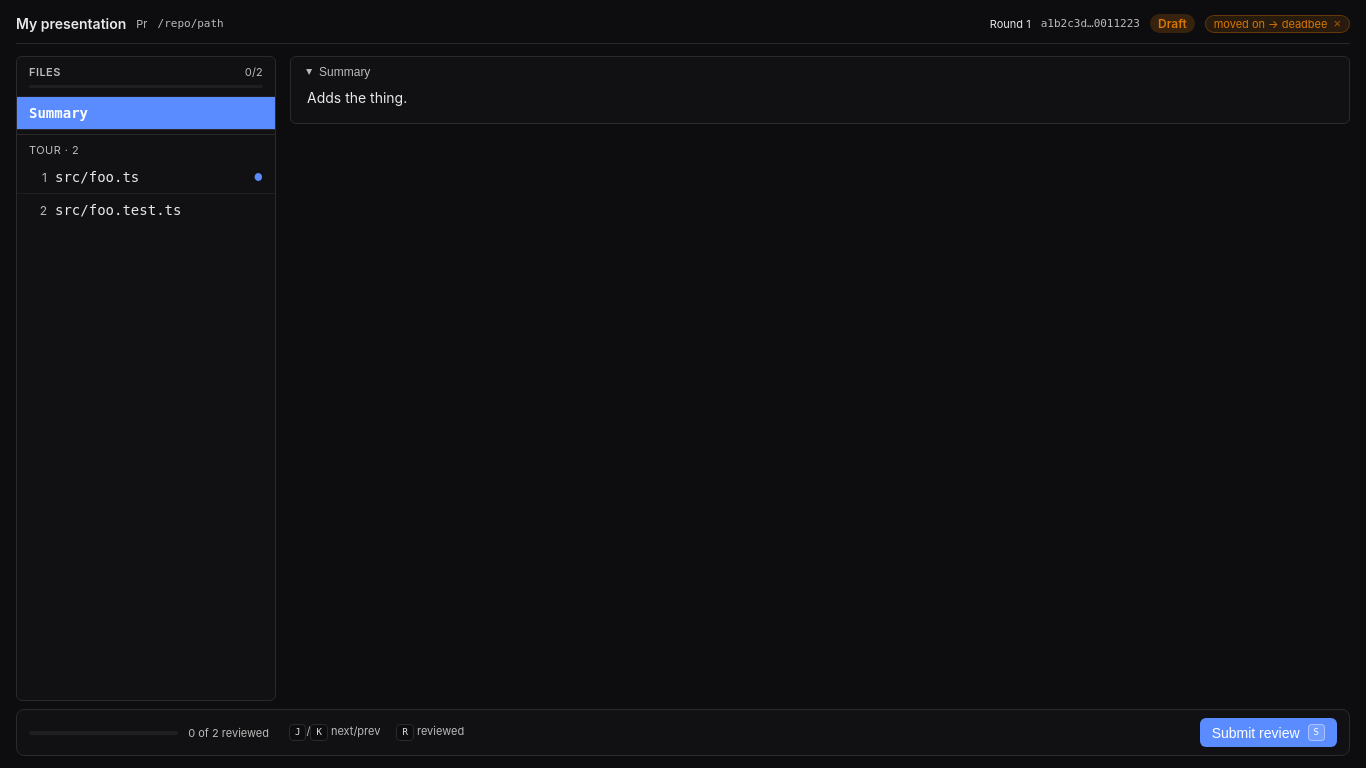
Test case: PresentRoot › shows a drift pill (with the long explanation in its title) iff repoHeadSha differs from the pinned round head, and it dismisses
Expected: the heading "My presentation" is shown, x1=16 y1=15 x2=126 y2=32
Expected: the message shows "deadbee", x1=1282 y1=16 x2=1327 y2=30
Click the button named "Dismiss" at (1337, 24), box x1=1333 y1=17 x2=1341 y2=30
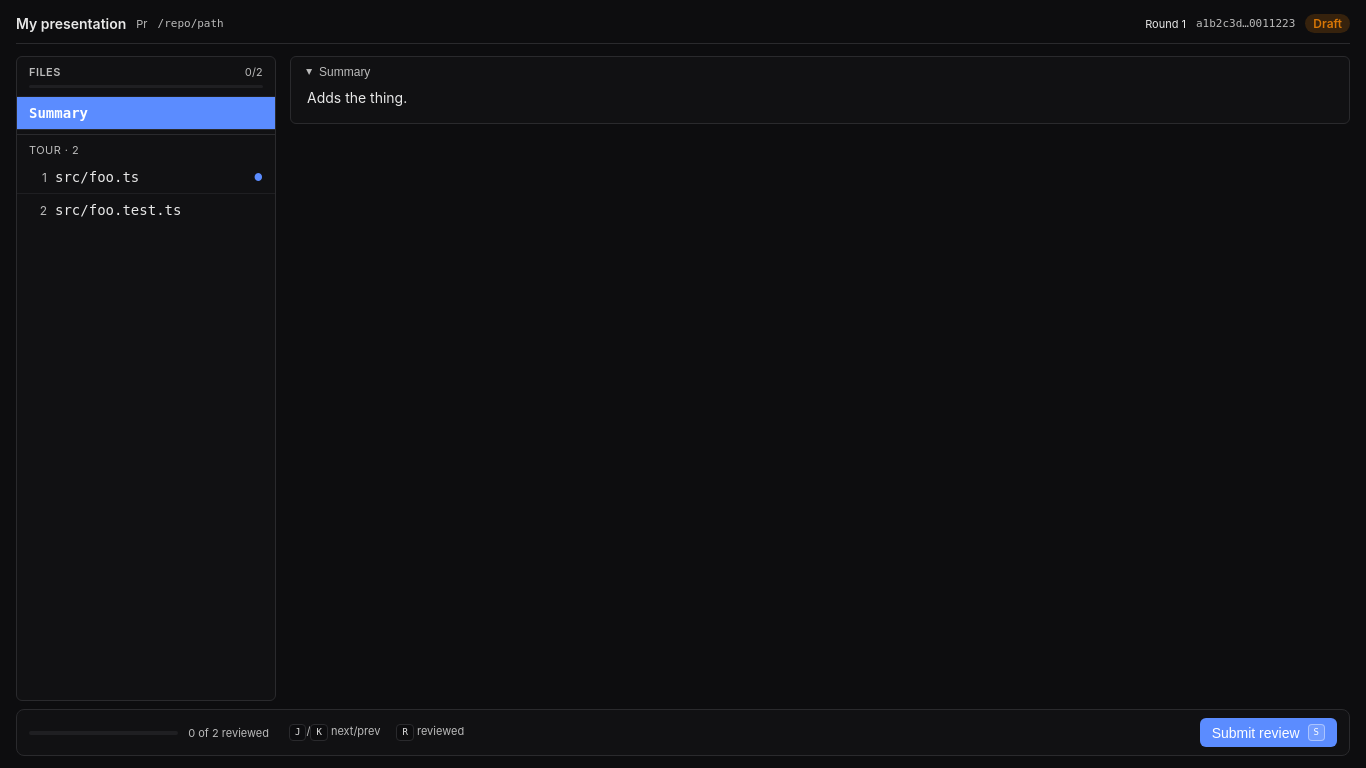
Result: the message "moved on → deadbee ×" is gone
